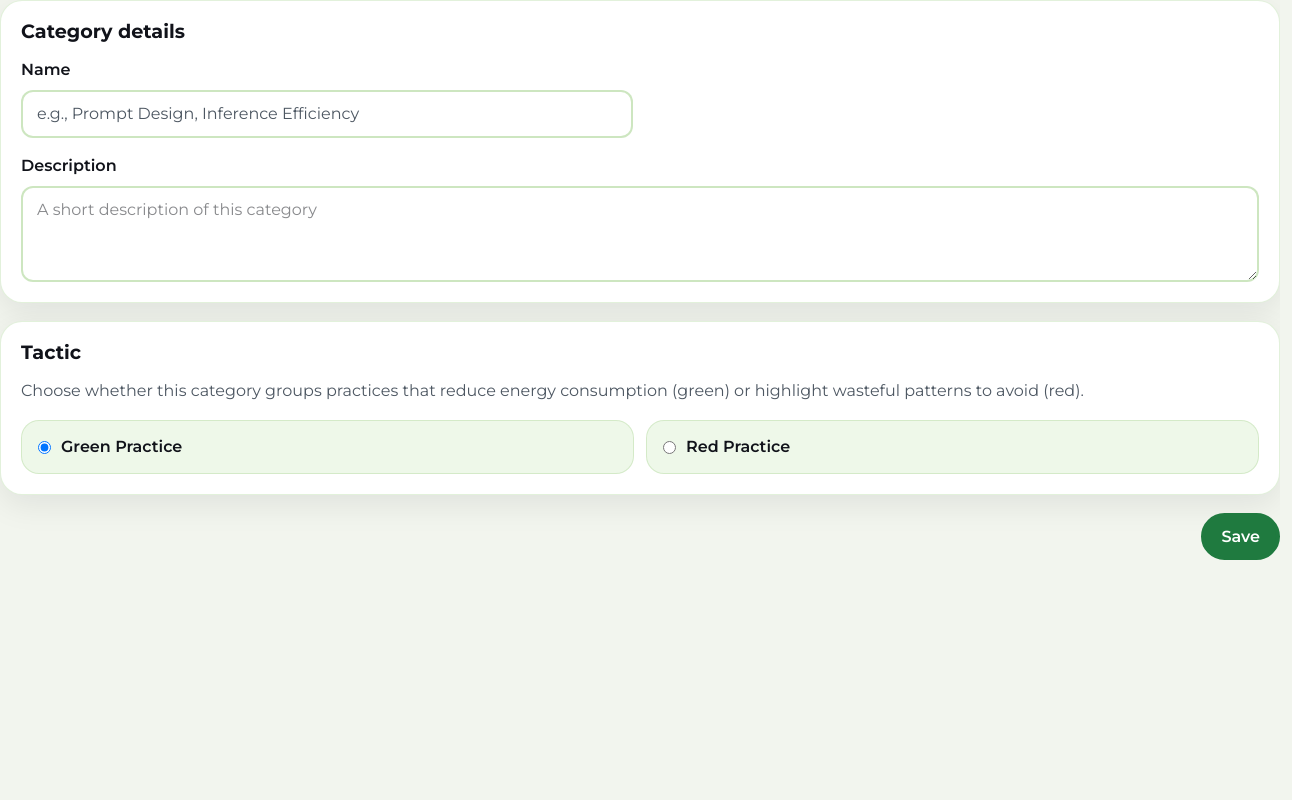
Test: CategoryForm › shows error message on failed submission
The width and height of the screenshot is (1292, 800).
In the field labelled "Name": x=327, y=114 [21,90,633,138], type "Prompt Design"
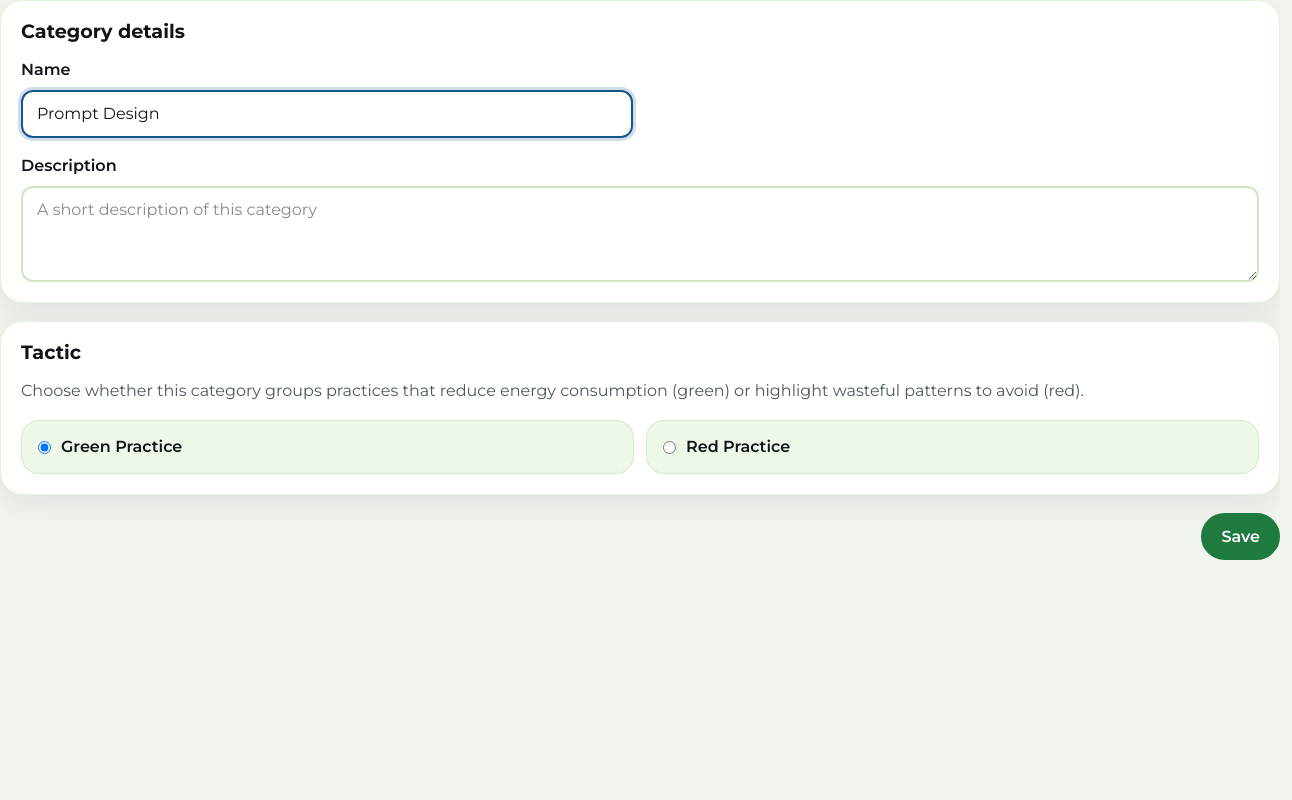
Click the button "Save": x=1241, y=537 [1201,513,1280,560]
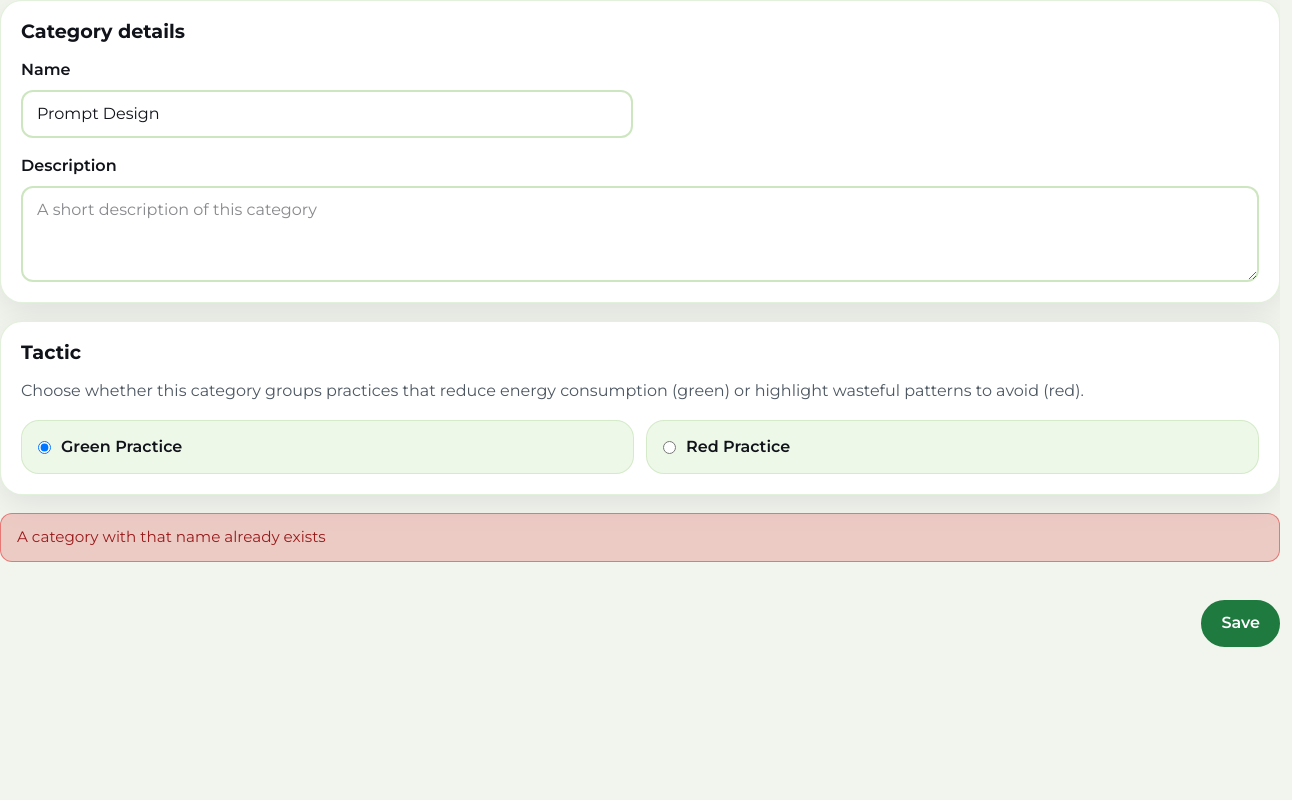
Check: the text "A category with that name already exists" is shown, box [0,513,1280,562]
